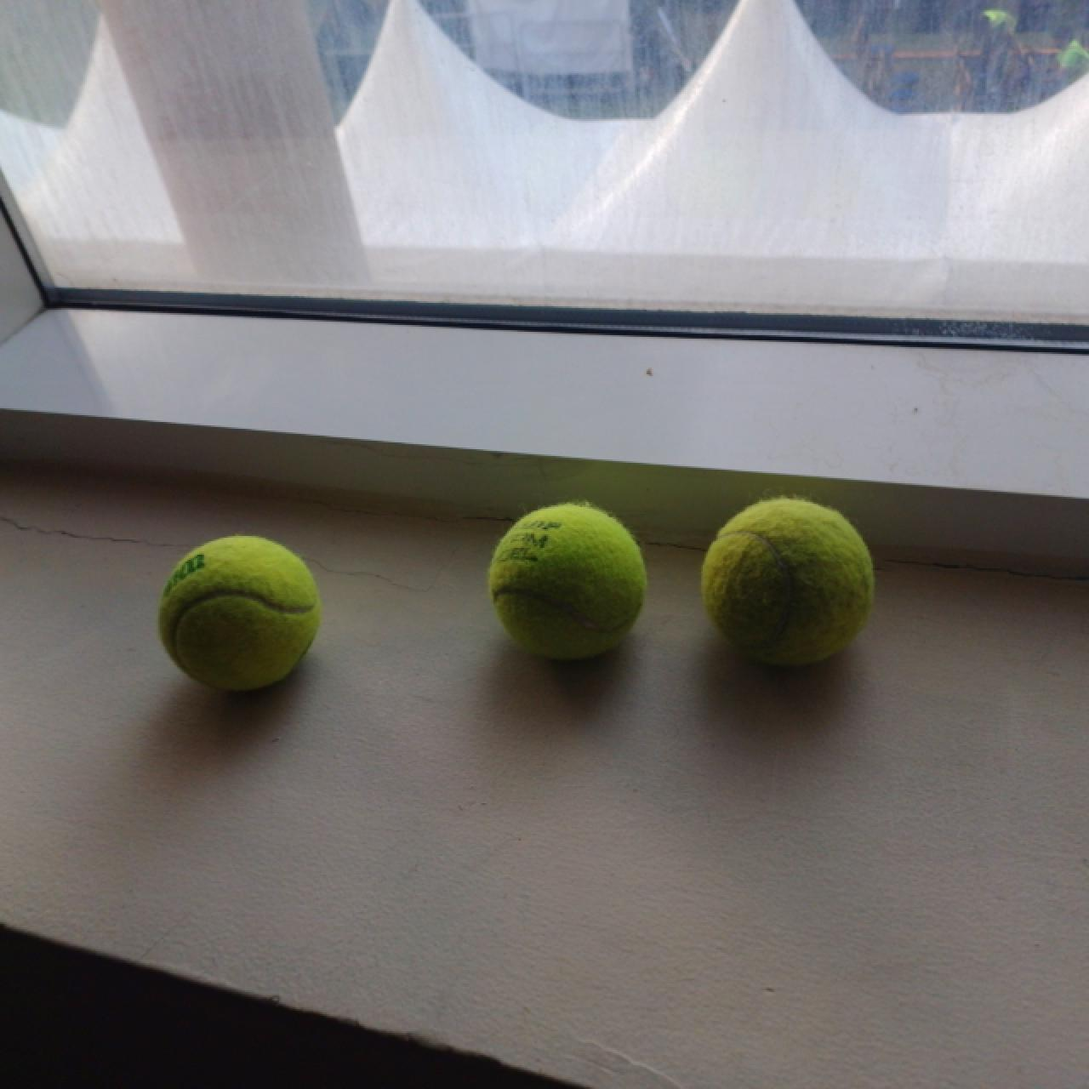tennis-ball: (699, 496, 876, 670), (156, 532, 322, 693), (486, 501, 647, 663)
